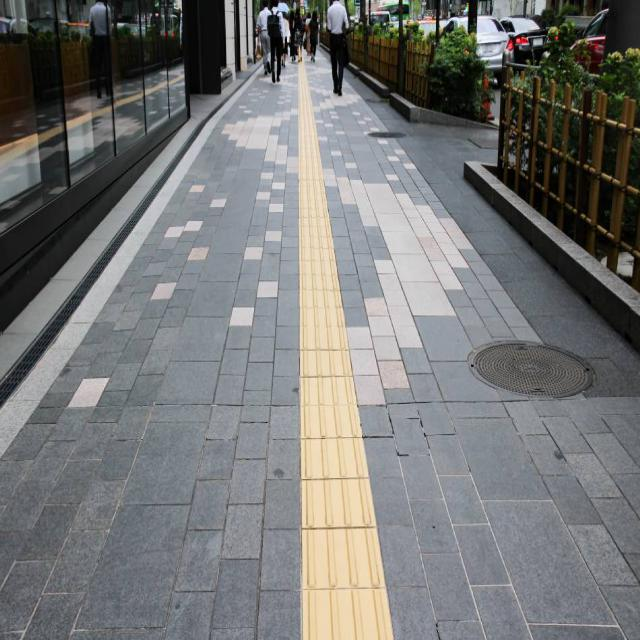tactile-guide-path: (296, 62, 395, 639)
